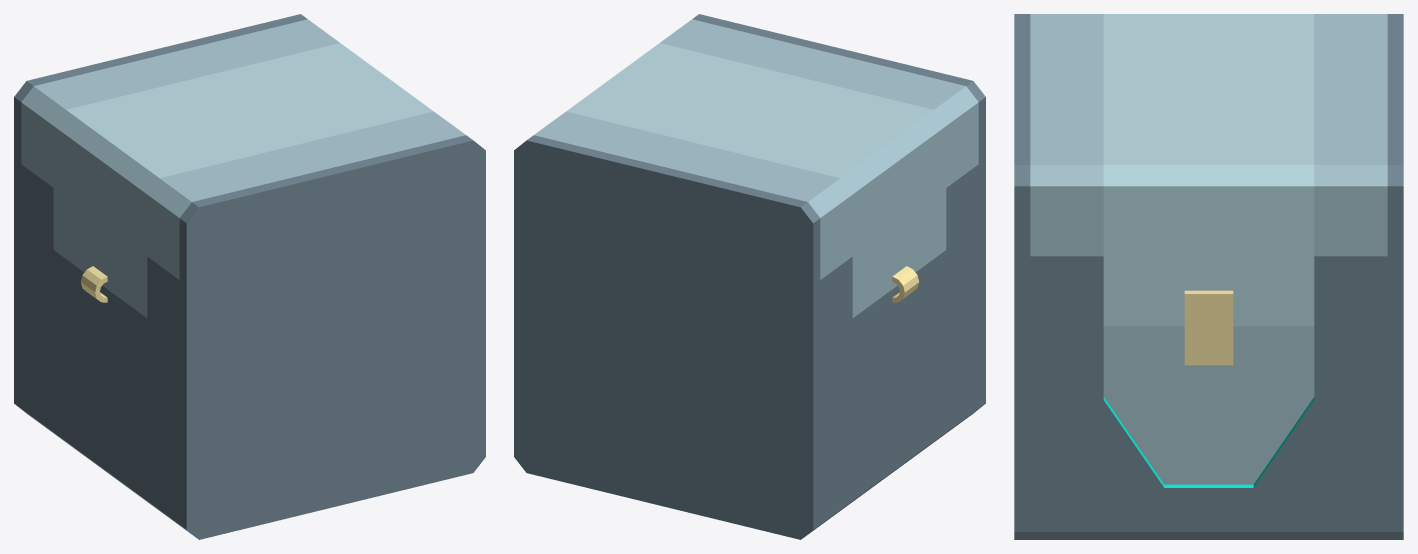
File: treasure box-02.fbx
3 renders of one model, left to right at view 1: azimuth 30°, elevation 25°; view 2: azimuth 150°, elevation 25°; view 3: azimuth 270°, elevation 25°, orthographic. The views are drawn at different scales.
Parts seen in each view (by area): view 1: treasure box-02; view 2: treasure box-02; view 3: treasure box-02.
Boxes of the visible parts, x1=… form: treasure box-02: x1=14, y1=14, x2=485, y2=539; treasure box-02: x1=514, y1=14, x2=985, y2=539; treasure box-02: x1=1014, y1=14, x2=1403, y2=539.
Size of the model in its own units: 25.5 by 25.5 by 24.
